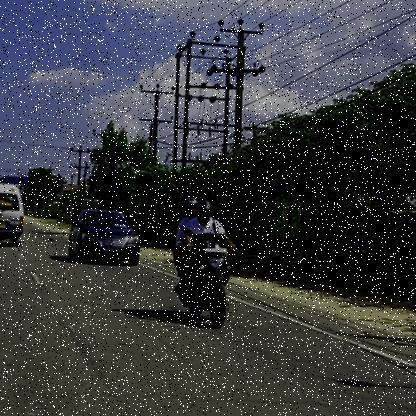motorcycle: (168, 242, 240, 333)
